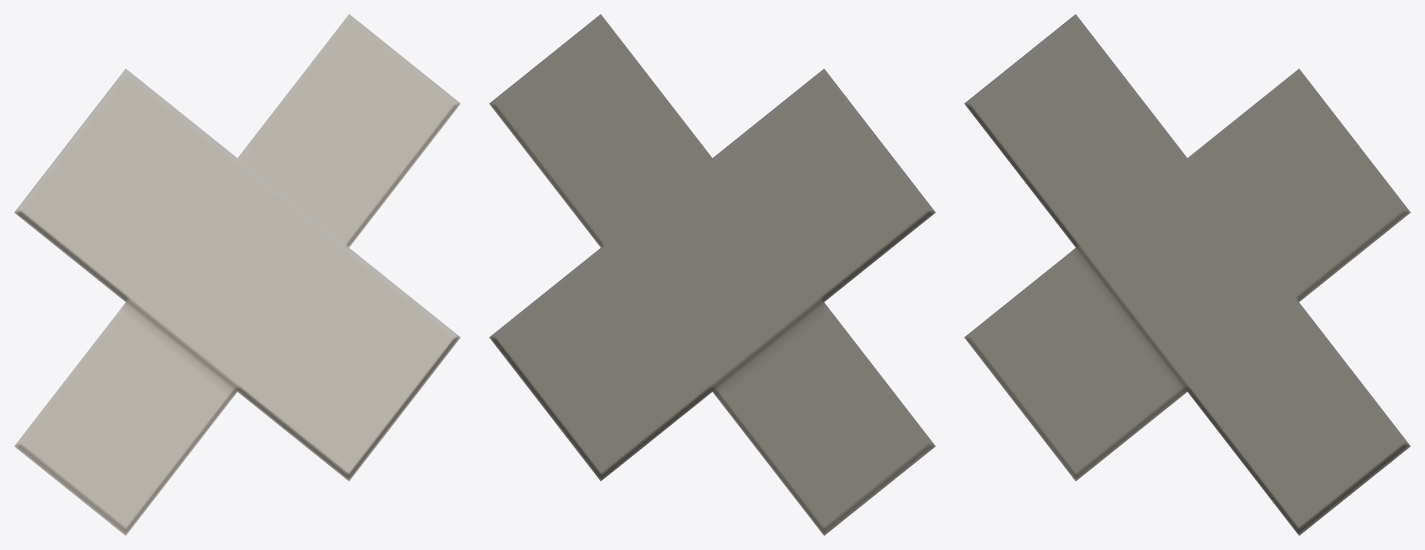
The model's file is eff_bansoco01.fbx.
3 views of the same model, side by side, from view 1: azimuth 30°, elevation 25°; view 2: azimuth 150°, elevation 25°; view 3: azimuth 330°, elevation 25° (orthographic).
Visible parts, largest first — view 1: bansoco; view 2: bansoco; view 3: bansoco.
Part boxes in pixels (x1=…): bansoco: x1=14, y1=14, x2=460, y2=535; bansoco: x1=489, y1=14, x2=935, y2=535; bansoco: x1=964, y1=14, x2=1410, y2=535.
Size of the model in its own units: 149 by 149 by 0.
